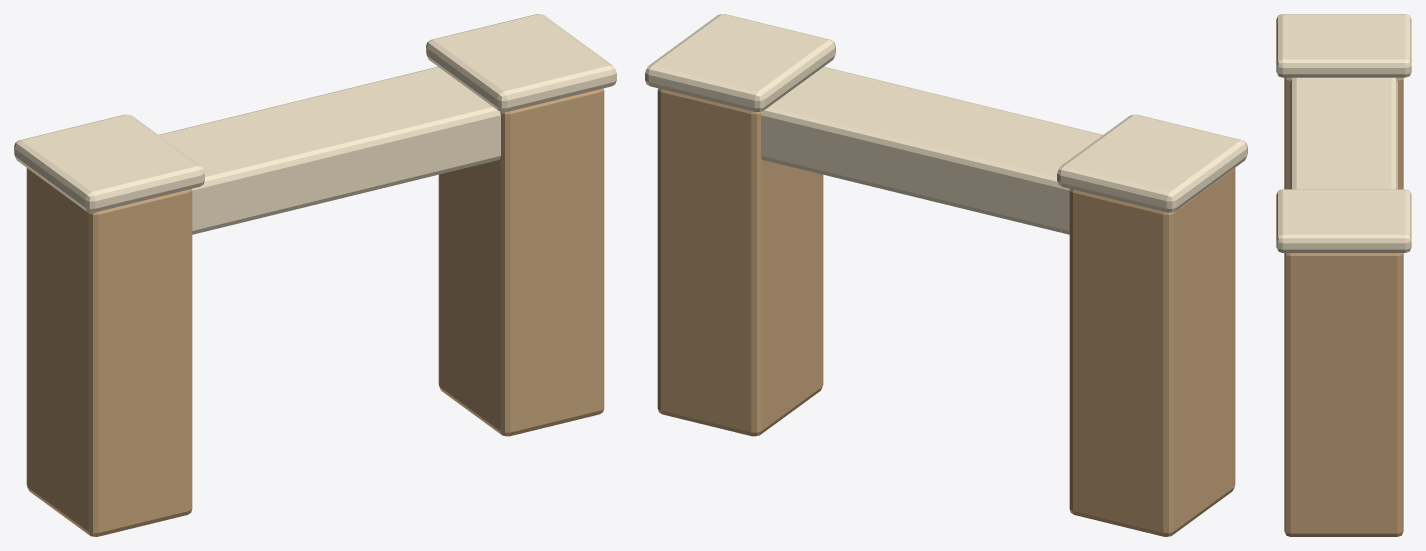
Rendered from gate.glb.
3 views of the same model, side by side, from view 1: azimuth 30°, elevation 25°; view 2: azimuth 150°, elevation 25°; view 3: azimuth 270°, elevation 25° (orthographic). The views are drawn at different scales.
Visible parts, largest first — view 1: Gate pillar, Gate pillar.001, Lintel, Cap, Cap.001; view 2: Gate pillar, Gate pillar.001, Lintel, Cap, Cap.001; view 3: Gate pillar.001, Lintel, Cap, Cap.001, Gate pillar.
Boxes of the visible parts, x1=… form: Gate pillar: x1=26, y1=168, x2=192, y2=536; Gate pillar.001: x1=438, y1=88, x2=604, y2=436; Lintel: x1=159, y1=66, x2=500, y2=234; Cap: x1=14, y1=114, x2=204, y2=212; Cap.001: x1=426, y1=14, x2=616, y2=112; Gate pillar: x1=1069, y1=168, x2=1235, y2=536; Gate pillar.001: x1=657, y1=88, x2=823, y2=436; Lintel: x1=761, y1=66, x2=1102, y2=234; Cap: x1=1057, y1=114, x2=1247, y2=212; Cap.001: x1=645, y1=14, x2=835, y2=112; Gate pillar.001: x1=1284, y1=253, x2=1403, y2=536; Lintel: x1=1290, y1=77, x2=1397, y2=189; Cap: x1=1276, y1=14, x2=1411, y2=77; Cap.001: x1=1276, y1=189, x2=1411, y2=252; Gate pillar: x1=1284, y1=77, x2=1403, y2=189.
Size of the model in its own units: 6.7 by 4.22 by 1.7.
